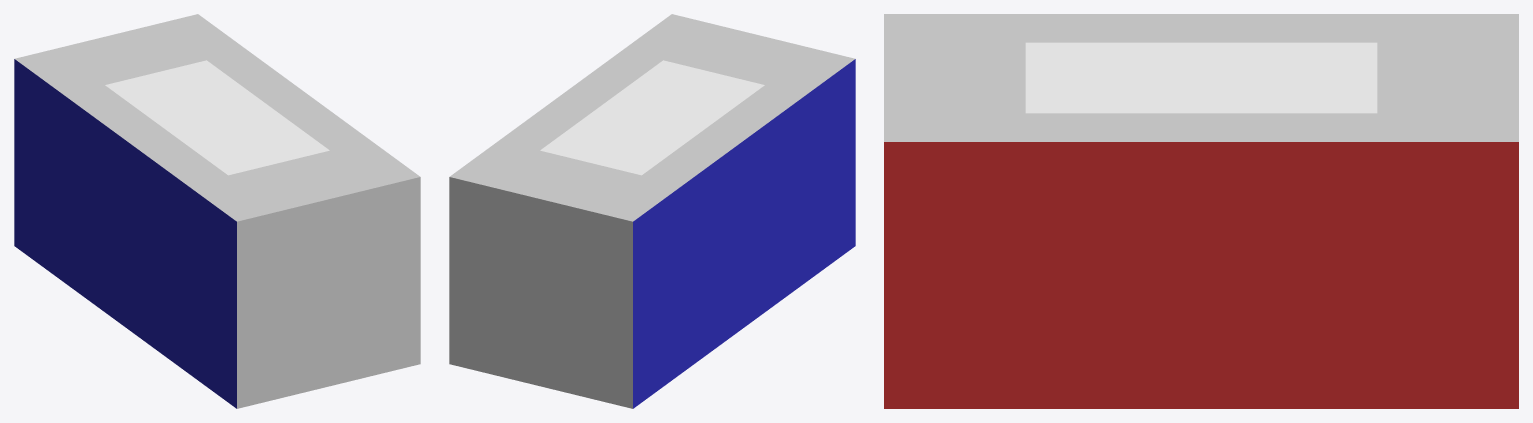
3 renders of one model, left to right at view 1: azimuth 30°, elevation 25°; view 2: azimuth 150°, elevation 25°; view 3: azimuth 270°, elevation 25°, orthographic. The views are drawn at different scales.
Visible parts, largest first — view 1: Cornell_Plane.003; view 2: Cornell_Plane.003; view 3: Cornell_Plane.003.
Part boxes in pixels (x1,y1,x2,y2): Cornell_Plane.003: [14, 14, 420, 408]; Cornell_Plane.003: [449, 14, 855, 408]; Cornell_Plane.003: [884, 14, 1518, 408].
Size of the model in its own units: 36.65 by 35.71 by 76.92.
